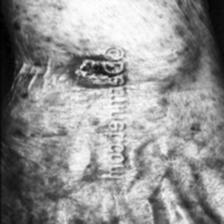Potentially Malignant Skin Tumors: (76, 48, 102, 87)
